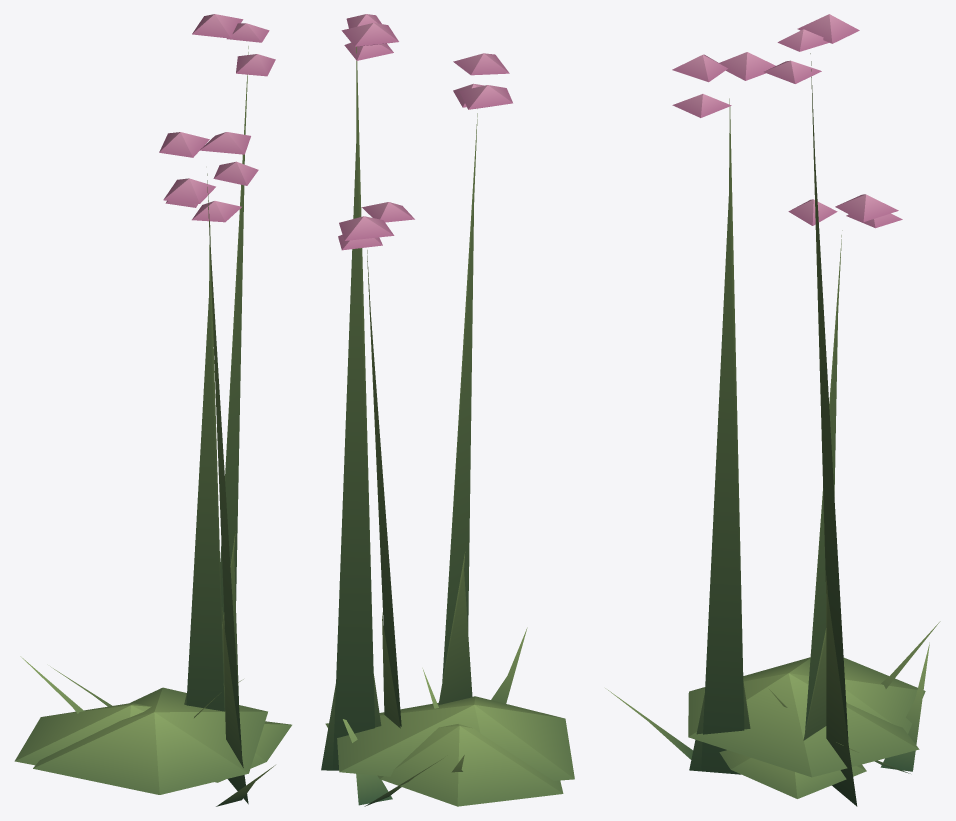
Rendered from env_flower_tall_stalk_01.glb.
The picture shows the model from 3 angles, left to right: view 1: azimuth 30°, elevation 25°; view 2: azimuth 150°, elevation 25°; view 3: azimuth 270°, elevation 25°; orthographic projection. The views are drawn at different scales.
Visible parts, largest first — view 1: flower_tall_stalk; view 2: flower_tall_stalk; view 3: flower_tall_stalk.
Part boxes in pixels (x1,y1,x2,y2): flower_tall_stalk: [14, 14, 291, 806]; flower_tall_stalk: [321, 14, 574, 806]; flower_tall_stalk: [605, 14, 940, 806].
Bounding box in the file's own units: 0.1793 × 0.4912 × 0.1947.
